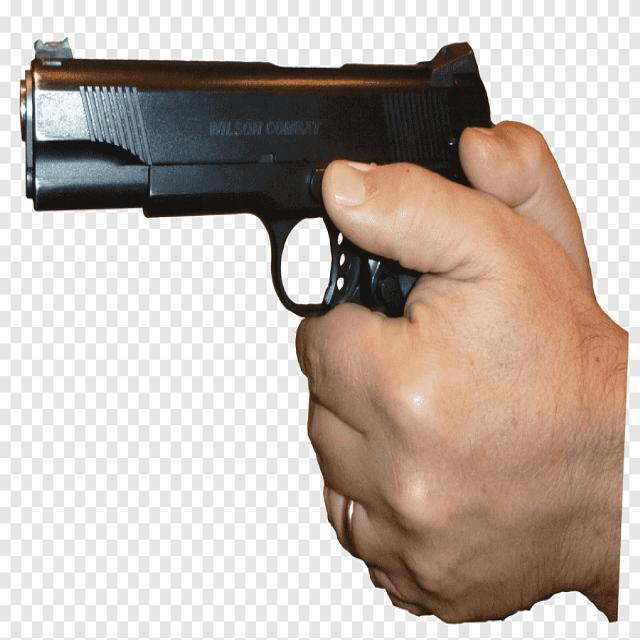Pistol: (13, 20, 532, 630)
